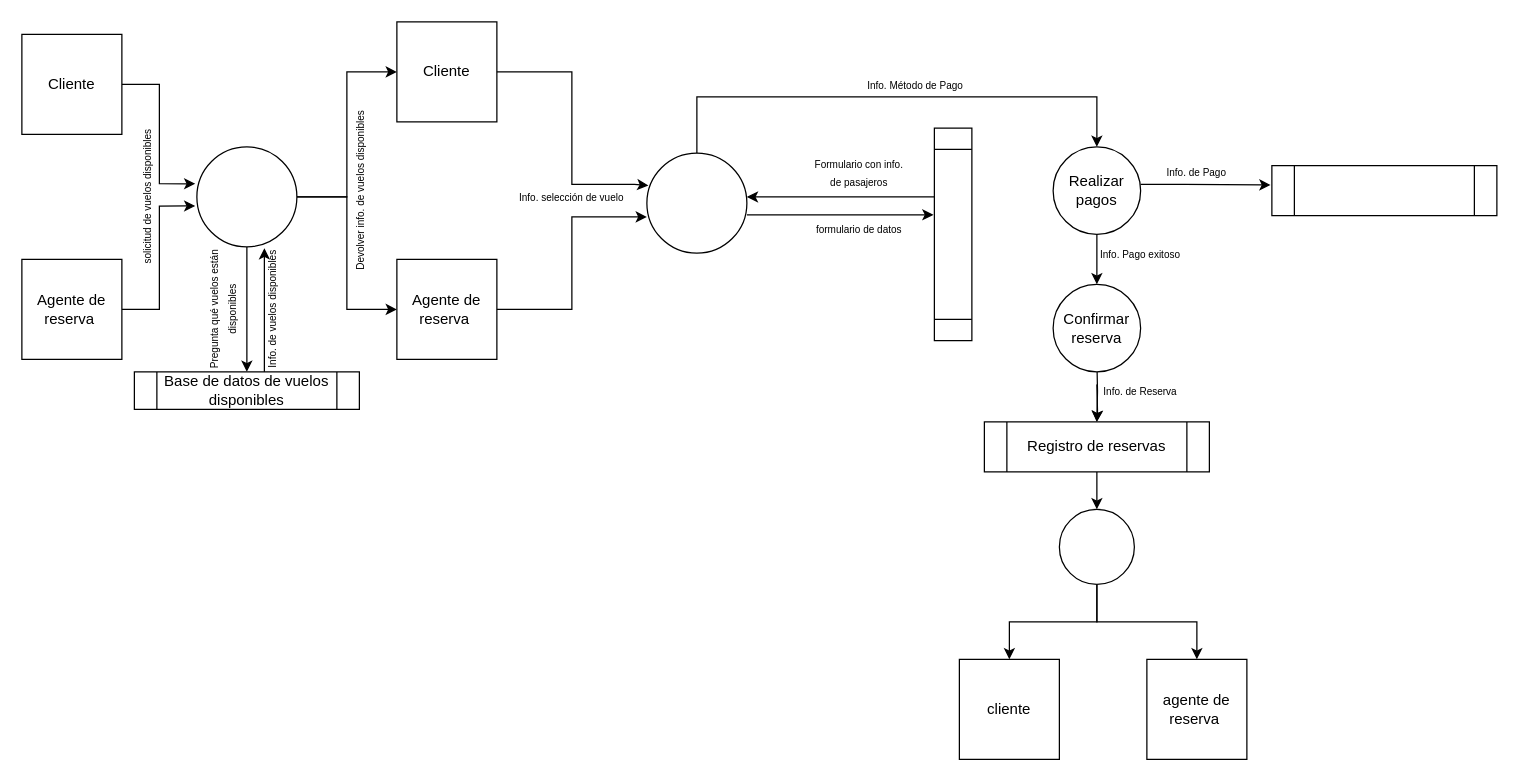
Some shapes in this 1519 by 781 pixel diagram are drawn without their labels. Each missing label, with the box of its shape:
base de datos de pasajeros: (933, 127, 972, 341)
dar pasajes: (1058, 508, 1134, 584)
pedir datos del pasajero: (646, 152, 747, 253)
Pedir vuelos disponibles: (196, 146, 297, 247)
Registro de pagos: (1271, 164, 1497, 216)
